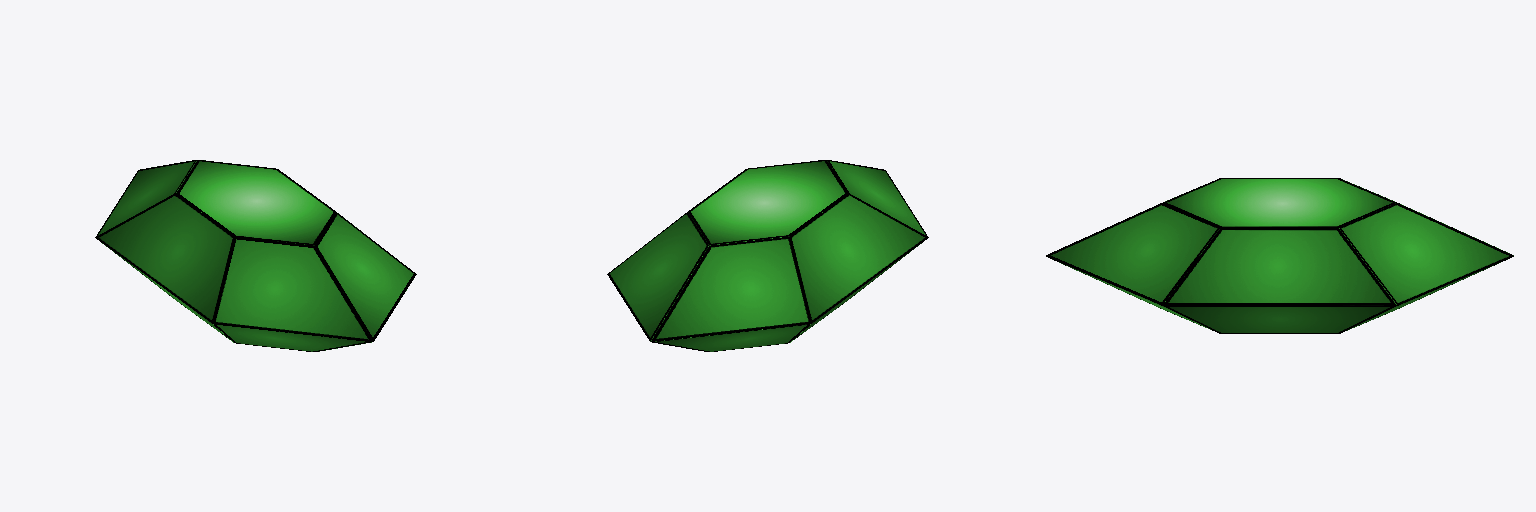
The picture shows the model from 3 angles: view 1: azimuth 30°, elevation 25°; view 2: azimuth 150°, elevation 25°; view 3: azimuth 270°, elevation 25°; orthographic projection.
Visible parts, largest first — view 1: Cube.001; view 2: Cube.001; view 3: Cube.001.
Part boxes in pixels (left/top/right/bottom): Cube.001: left=95, top=160, right=416, bottom=351; Cube.001: left=607, top=160, right=928, bottom=351; Cube.001: left=1046, top=178, right=1513, bottom=333.
Size of the model in its own units: 4 by 2 by 8.
Materials: 1 (1 with a texture image).